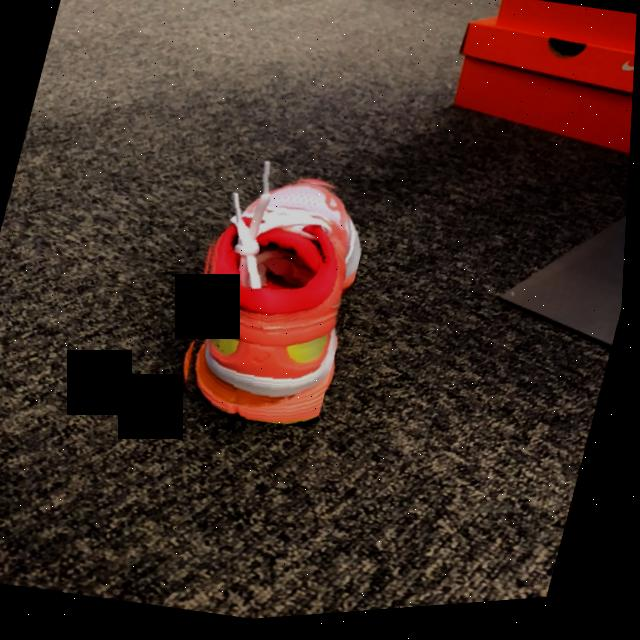shoe: (198, 186, 365, 428)
